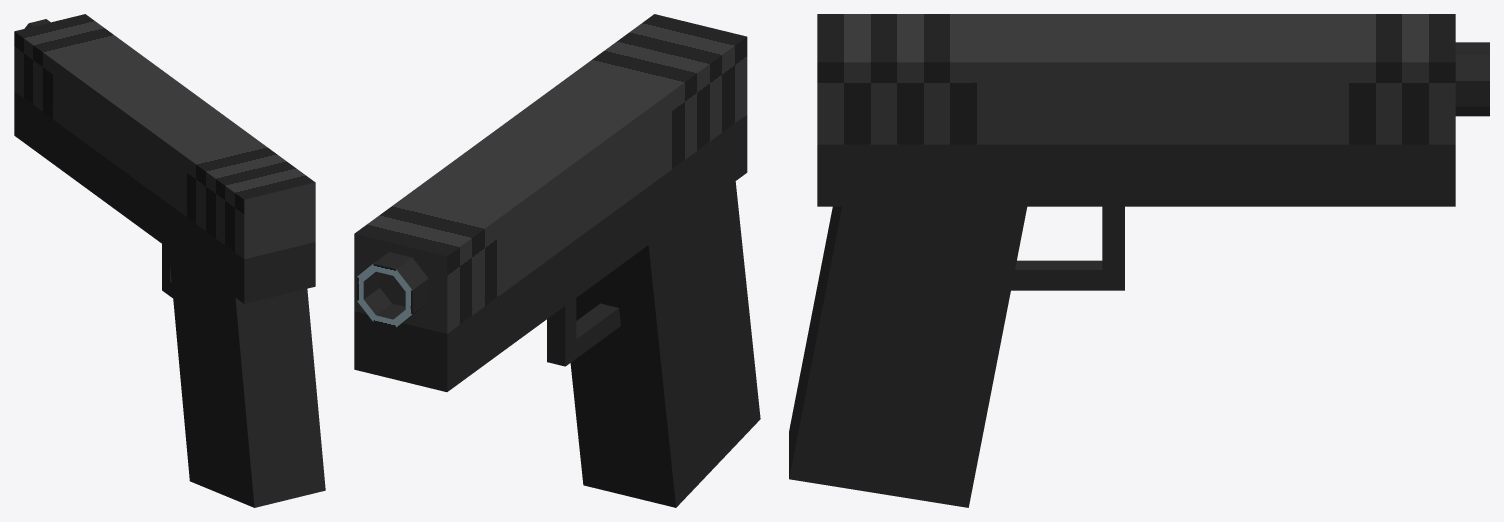
3 views of the same model, side by side, from view 1: azimuth 30°, elevation 25°; view 2: azimuth 150°, elevation 25°; view 3: azimuth 270°, elevation 25° (orthographic). The views are drawn at different scales.
Parts seen in each view (by area): view 1: cube (×3); view 2: cube (×5), cylinder; view 3: cube (×5), cylinder.
Boxes of the visible parts, x1,y1,x2,y2 form: cube (×3): [14, 14, 325, 507]; cube (×5): [354, 14, 760, 507]; cylinder: [357, 252, 428, 327]; cube (×5): [789, 14, 1455, 507]; cylinder: [1455, 42, 1489, 116].
Size of the model in its own units: 0.0625 by 0.2698 by 0.3843.
Materials: 2 (2 with a texture image).
